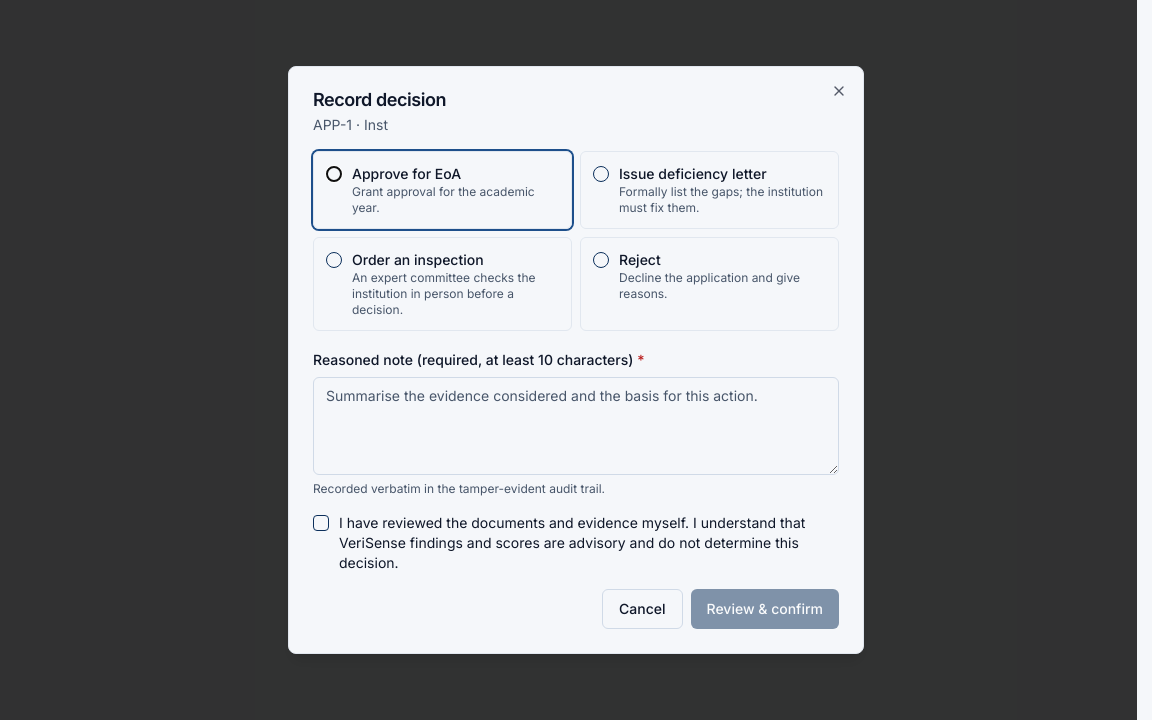
Test: DecisionDialog guard › requires a note of at least 10 characters
The image size is (1152, 720).
Click the radio button next to "Approve for EoA": (334, 174) [326,166,342,182]
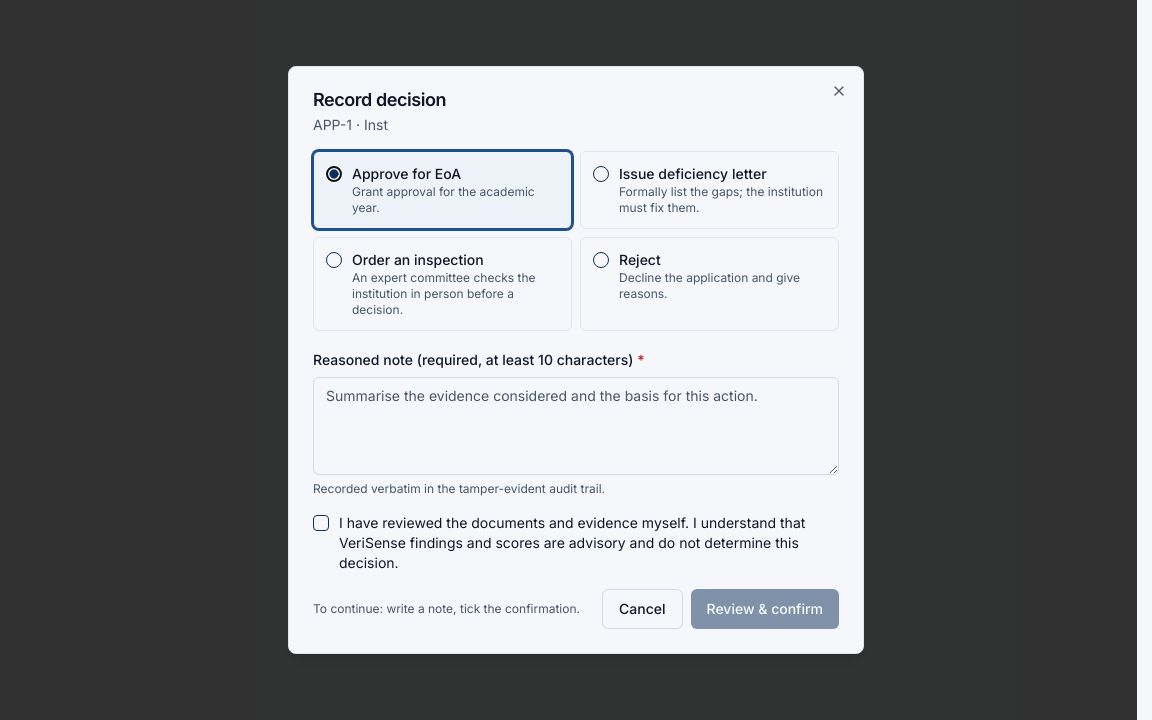
Replace the text in the text box with "too short": (576, 426) [313,377,839,475]
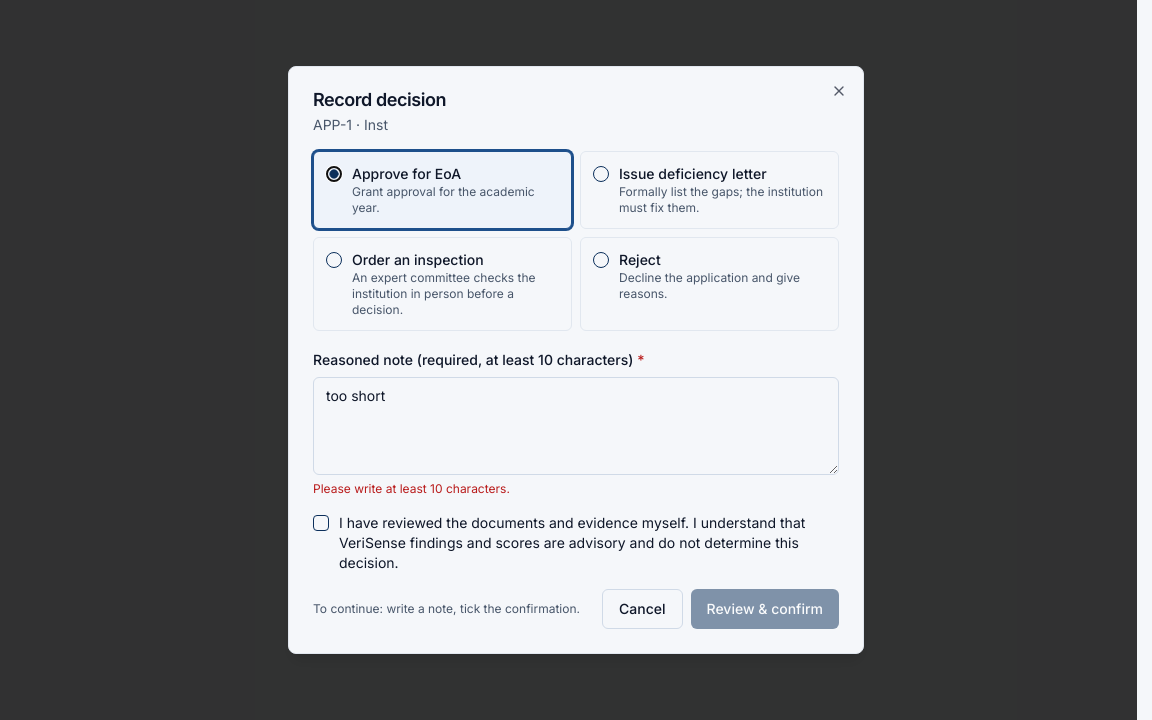
Click the checkbox: (321, 523) [313,515,329,531]
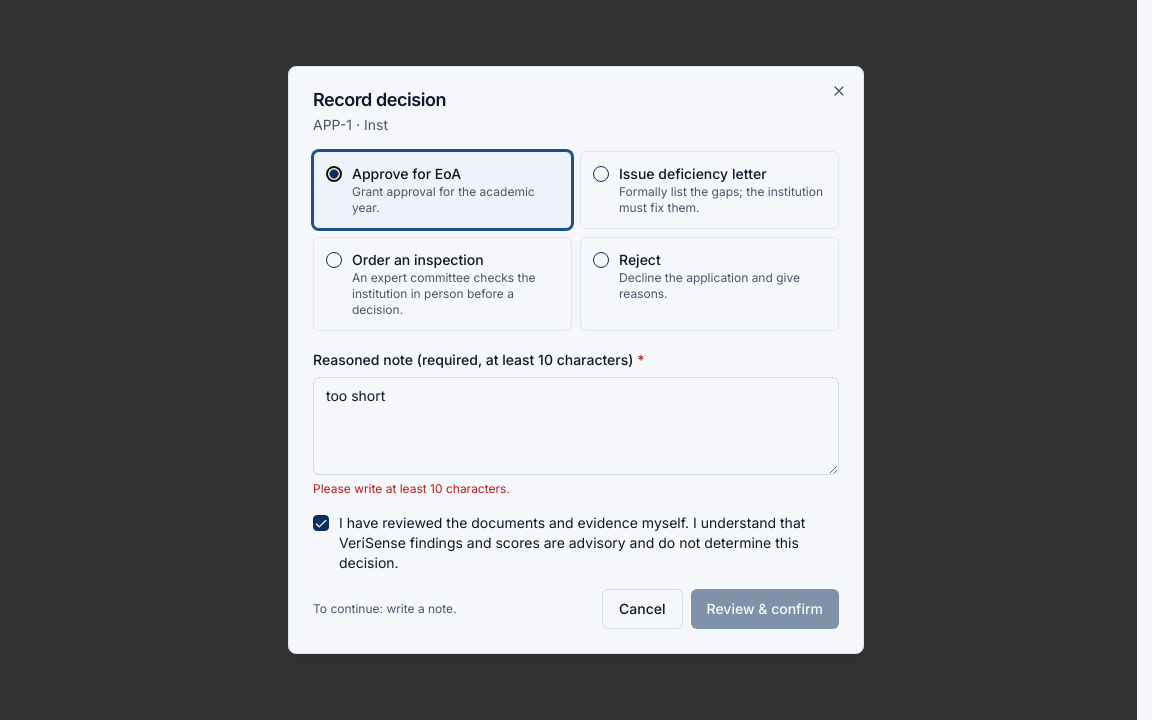
expect the button "Review & confirm" is disabled: met, box [690,589,839,629]
expect the text "Please write at least 10 characters." is shown: met, box [313,481,510,496]
Replace the text in the text box with "0123456789": (576, 426) [313,377,839,475]
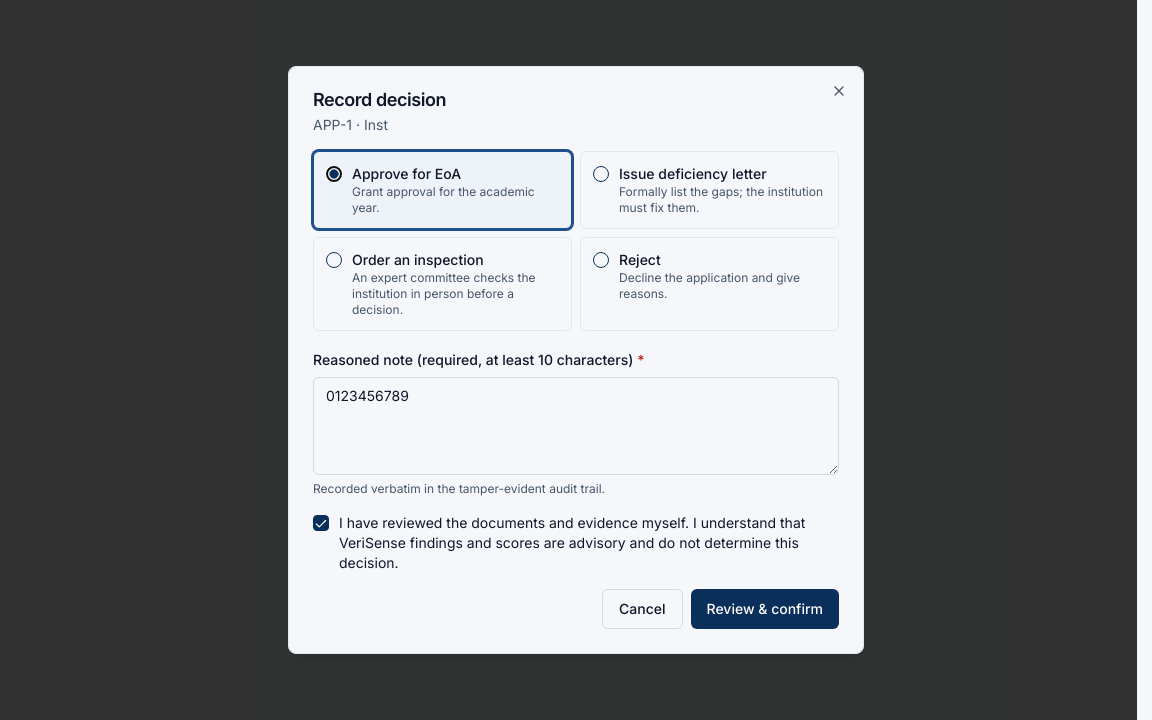
expect the button "Review & confirm" is enabled: met, box [690,589,839,629]
